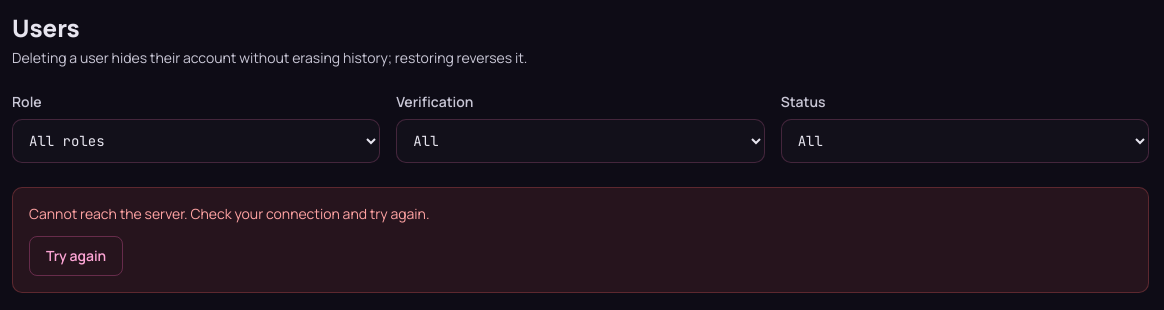
Test: UsersPage › reports a load failure and retries
Check: the message shows "Cannot reach the server", box [29,204,430,223]
Click the button "Try again".
click(76, 256)  # box [29,236,123,276]
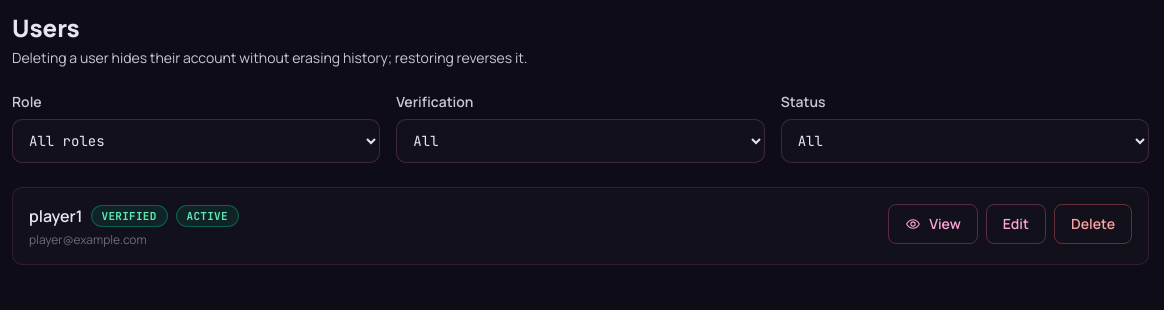
Check: the heading "player1" is shown, box [29,204,82,228]
